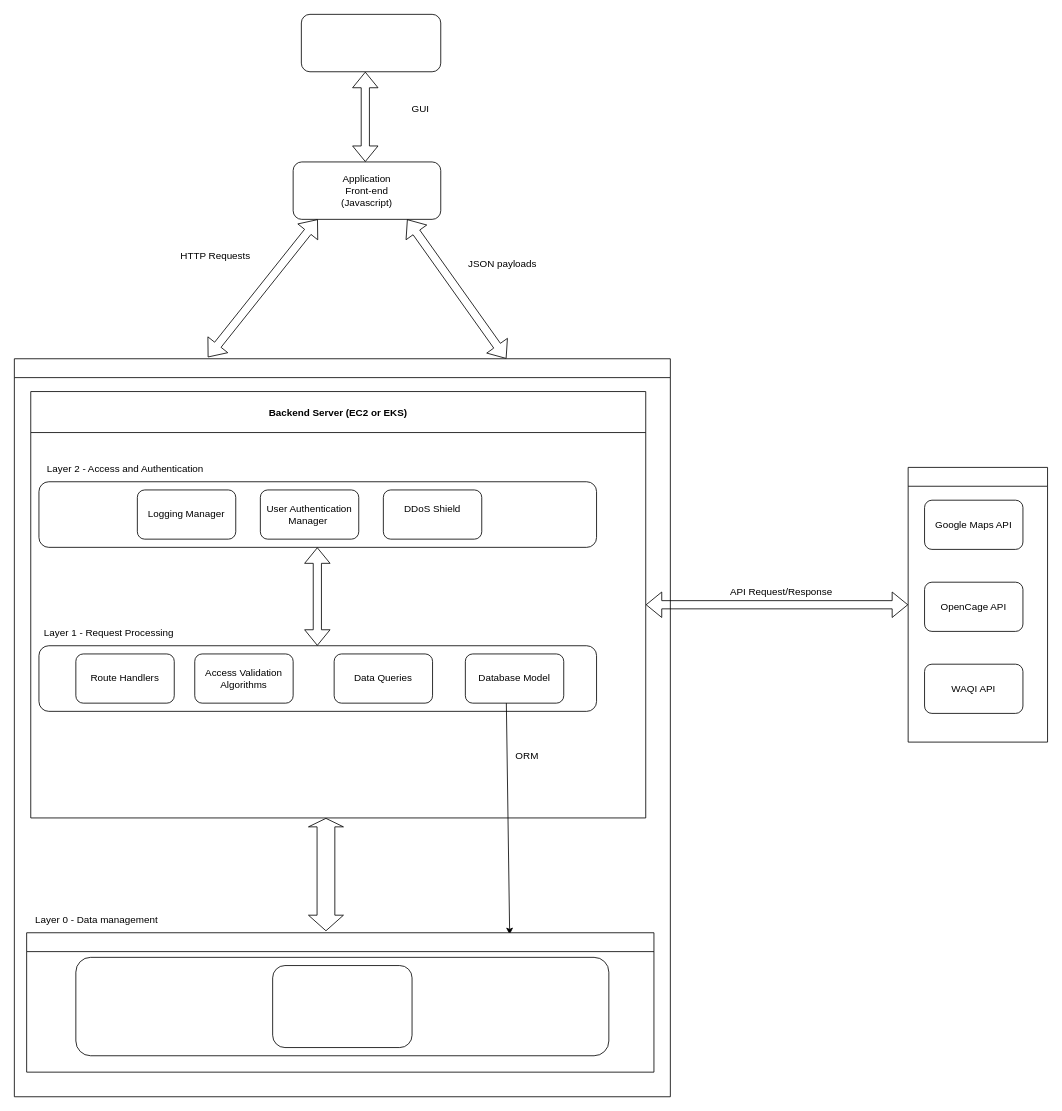
This 1062x1111 diagram has some shape labels left out. The box of each missing label's shape, as (x1, y1, x2, y2) in pixels:
AWS Cloud: (14, 358, 670, 1097)
Client: (301, 14, 441, 72)
External APIs: (907, 467, 1048, 742)
MySQL Database: (272, 965, 412, 1048)
MySQL Server / AWS RDS: (26, 932, 654, 1072)
